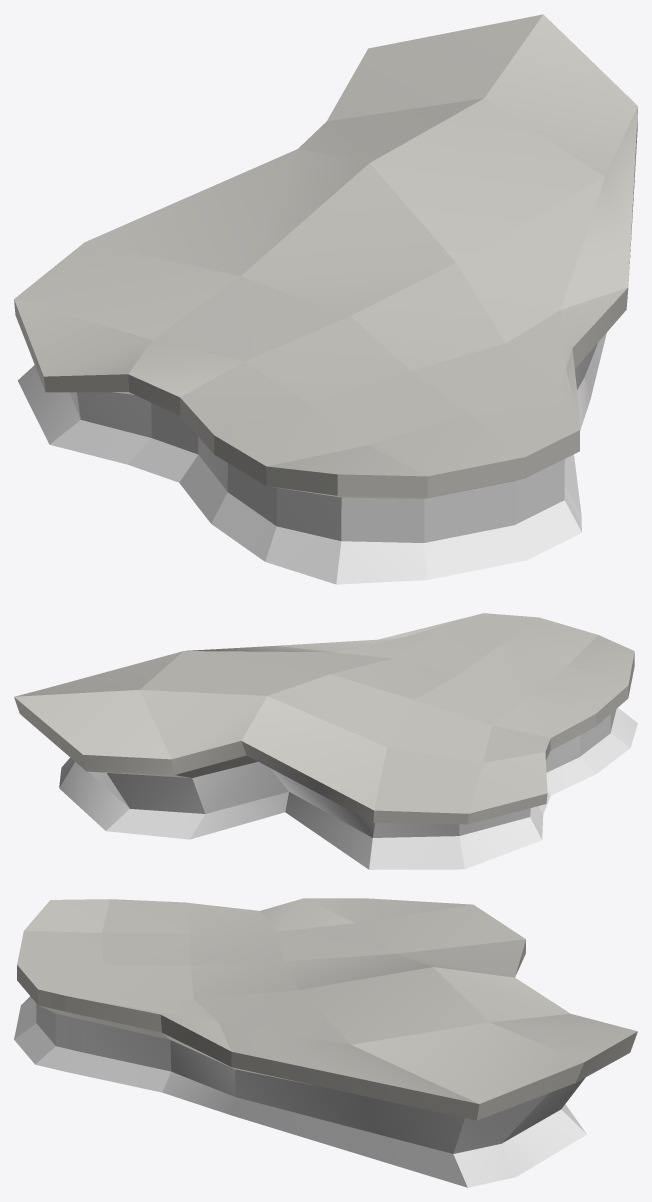
Rendered from christmasIslandMedium.dae.
3 renders of one model, top to bottom at view 1: azimuth 30°, elevation 25°; view 2: azimuth 150°, elevation 25°; view 3: azimuth 270°, elevation 25°, orthographic. The views are drawn at different scales.
Parts seen in each view (by area): view 1: christmasIslandMedium; view 2: christmasIslandMedium; view 3: christmasIslandMedium.
Boxes of the visible parts, x1,y1,x2,y2 form: christmasIslandMedium: (14,14,637,584); christmasIslandMedium: (14,613,637,869); christmasIslandMedium: (14,898,637,1187).
Size of the model in its own units: 7.87 by 8.55 by 1.88.
Materials: 2 (1 with a texture image).
